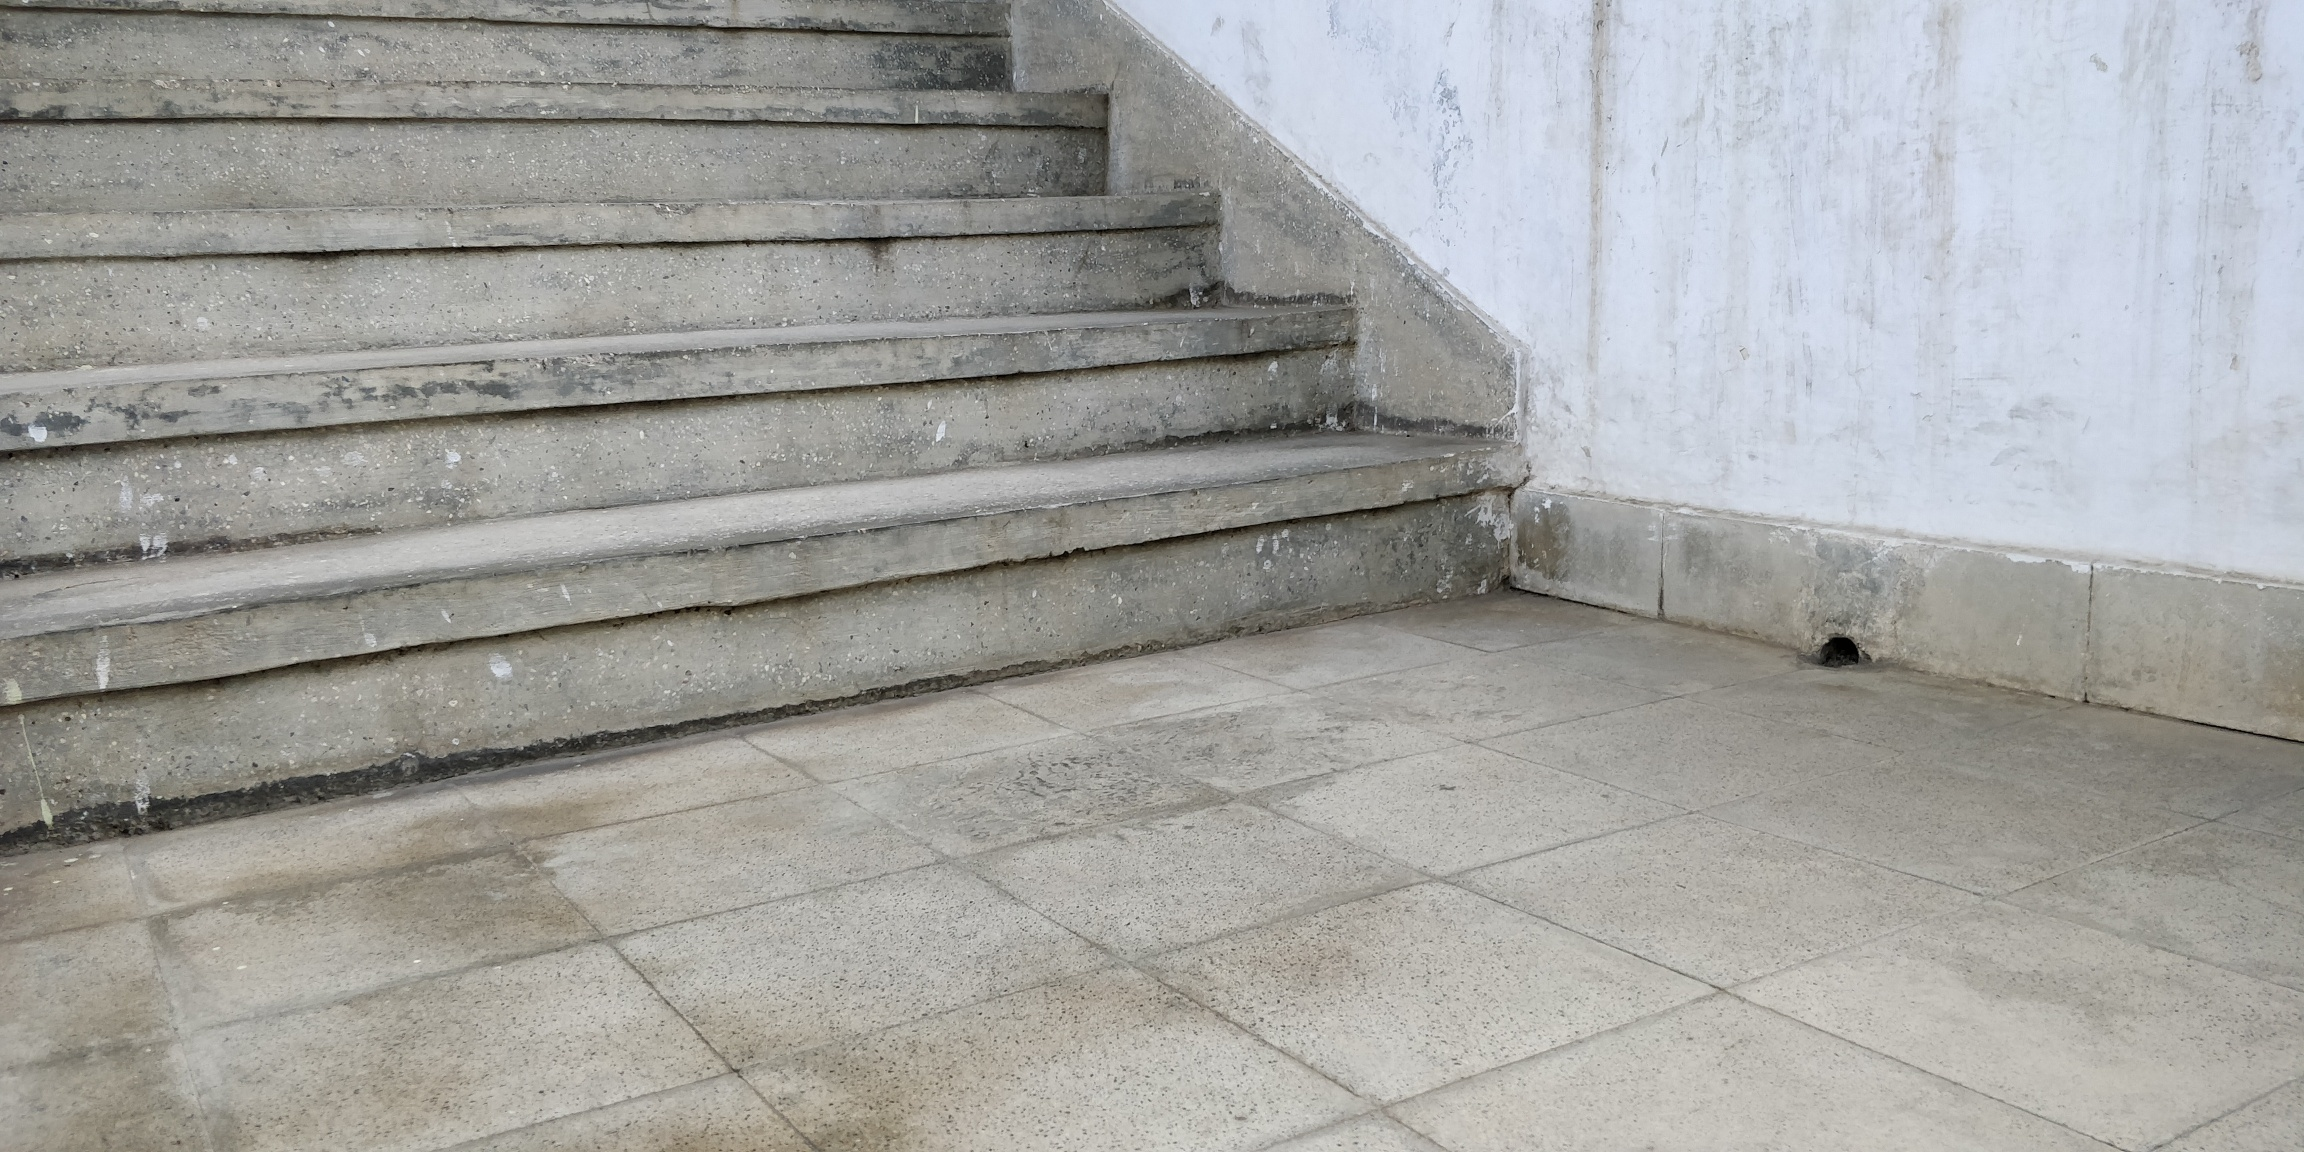stairs_up: (4, 1, 1522, 711)
